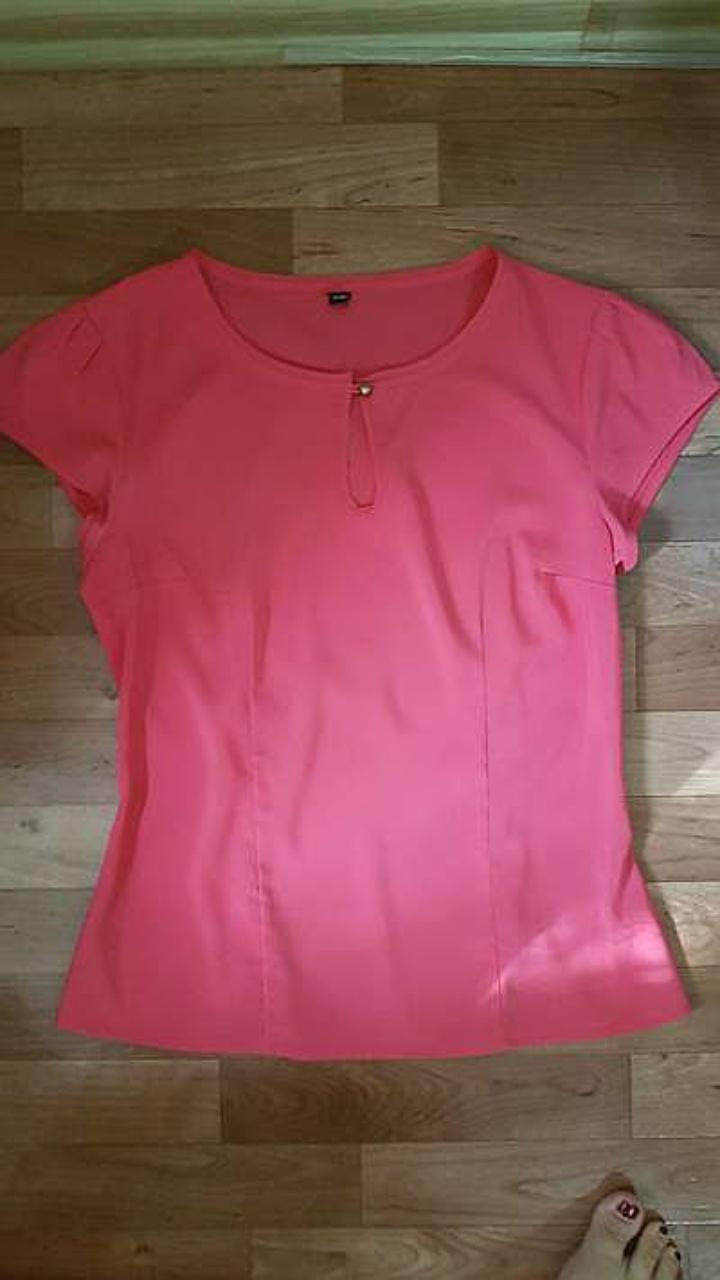T-Shirt: (0, 243, 719, 1058)
